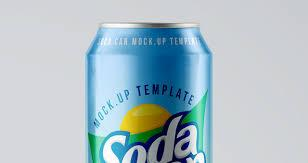Aluminum can: (75, 21, 224, 163)
